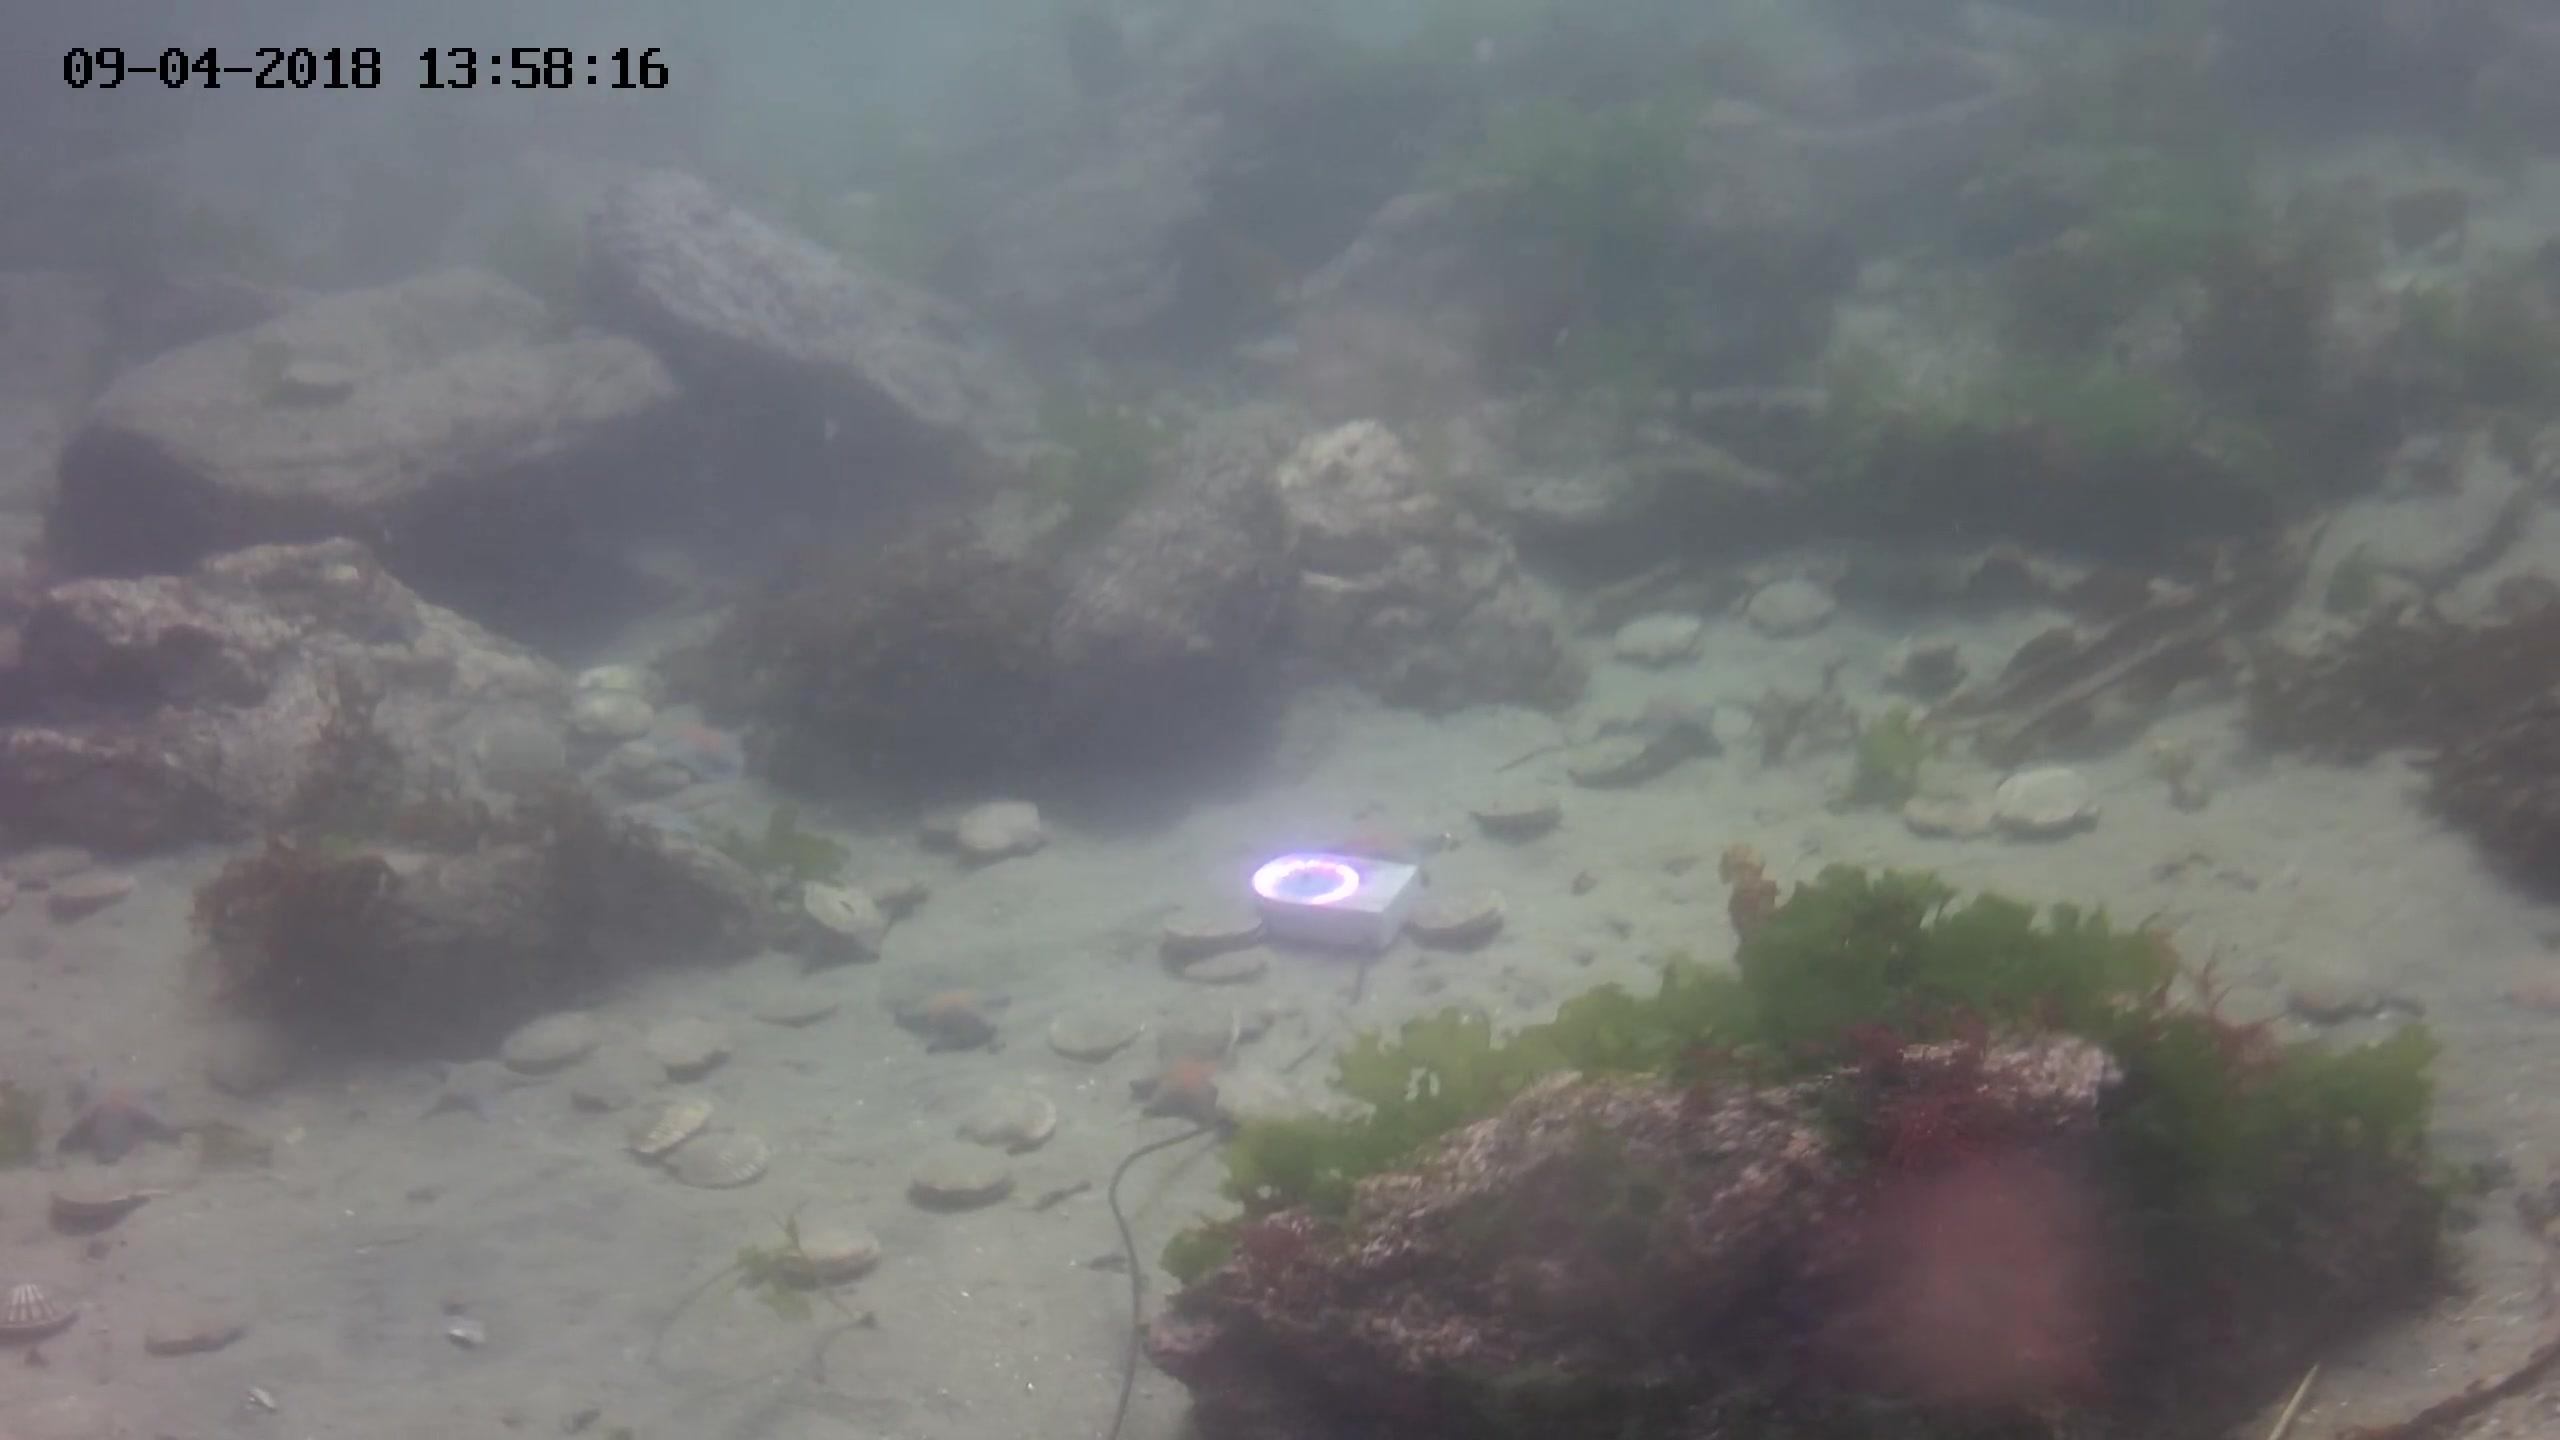scallop: (1989, 772, 2112, 846), (148, 1284, 267, 1359), (962, 1081, 1057, 1164), (665, 1129, 779, 1197), (798, 870, 895, 948), (774, 1225, 888, 1291), (1742, 573, 1844, 642), (499, 1006, 605, 1071), (1408, 888, 1507, 956), (953, 798, 1050, 867), (207, 1027, 297, 1101), (1157, 898, 1271, 955), (907, 1159, 1015, 1218), (1547, 737, 1653, 791), (1046, 999, 1136, 1062), (1609, 612, 1709, 668), (46, 1176, 148, 1231), (644, 1022, 738, 1080), (628, 1101, 712, 1166), (5, 1278, 83, 1349), (573, 689, 659, 747), (1475, 788, 1558, 846), (49, 867, 139, 920), (578, 659, 663, 714), (571, 1062, 666, 1109), (756, 976, 846, 1025), (4, 846, 93, 890), (918, 802, 990, 855), (1199, 942, 1276, 976)
starfish: (49, 1062, 188, 1167), (1324, 804, 1459, 891), (895, 990, 1027, 1060), (768, 907, 890, 983), (1633, 687, 1725, 772), (418, 1057, 513, 1134), (1127, 1053, 1222, 1131), (658, 716, 749, 791), (614, 789, 707, 853), (343, 591, 425, 656)
